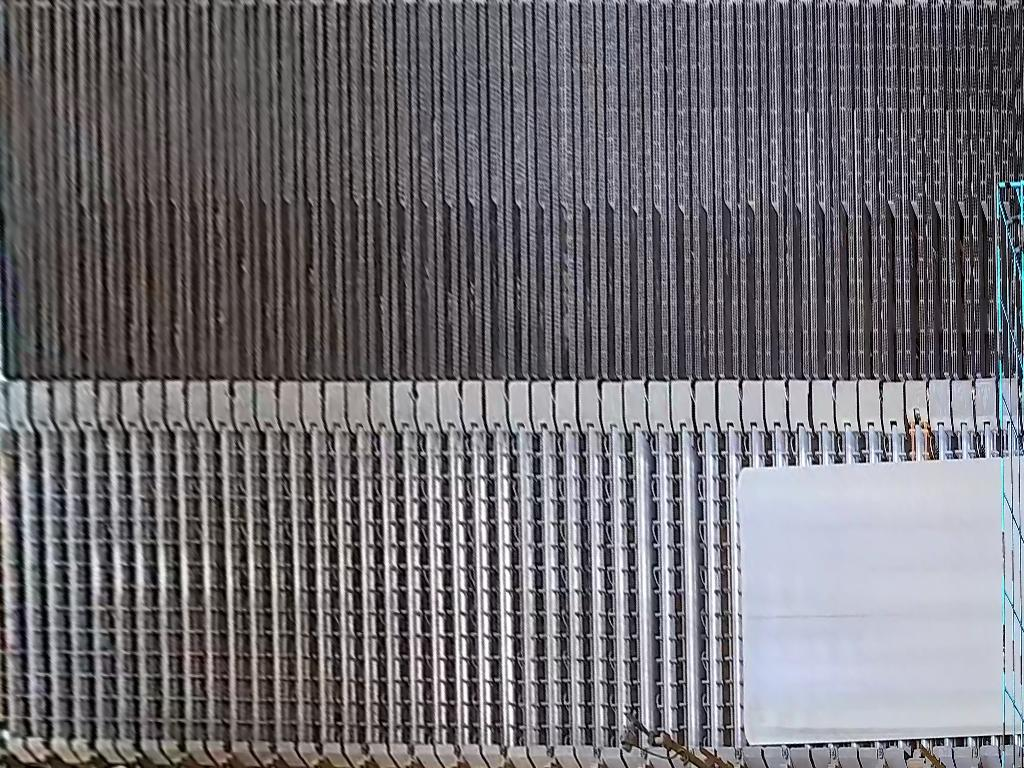steel: (745, 455, 1024, 746)
